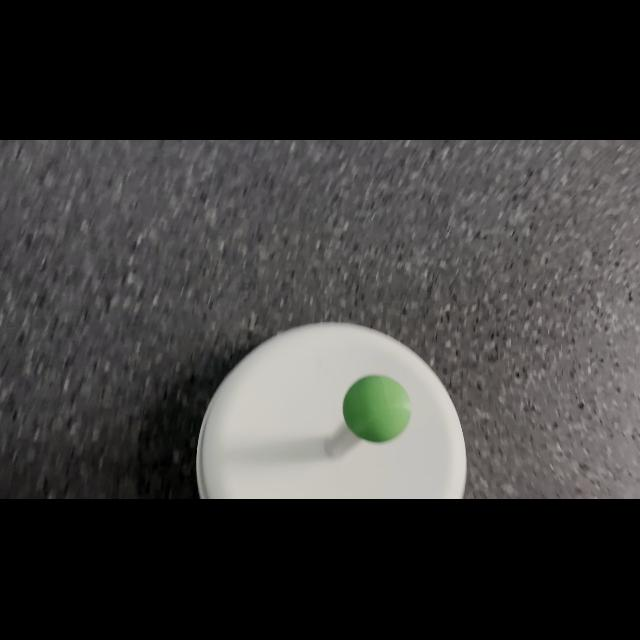objects: (339, 372, 413, 446)
